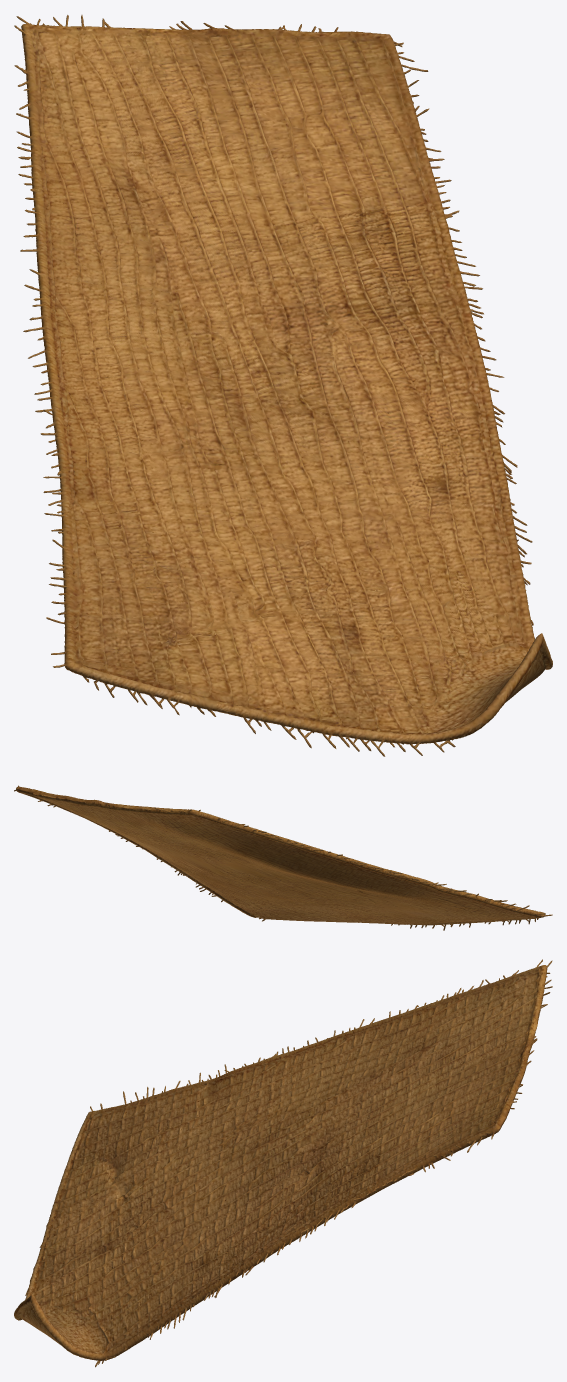
File: straw_mat.glb
3 renders of one model, top to bottom at view 1: azimuth 30°, elevation 25°; view 2: azimuth 150°, elevation 25°; view 3: azimuth 270°, elevation 25°, orthographic. The views are drawn at different scales.
Visible parts, largest first — view 1: tripo_node_31f58c0e-be97-476c-bc2f-bf8727b5bd14; view 2: tripo_node_31f58c0e-be97-476c-bc2f-bf8727b5bd14; view 3: tripo_node_31f58c0e-be97-476c-bc2f-bf8727b5bd14.
Boxes of the visible parts, box(x1,y1,x2,y2) form: tripo_node_31f58c0e-be97-476c-bc2f-bf8727b5bd14: box(14, 15, 552, 756); tripo_node_31f58c0e-be97-476c-bc2f-bf8727b5bd14: box(14, 785, 552, 930); tripo_node_31f58c0e-be97-476c-bc2f-bf8727b5bd14: box(14, 959, 552, 1367).
Bounding box in the file's own units: 0.9576 × 0.6815 × 0.9794.
1 material, 1 textured.
